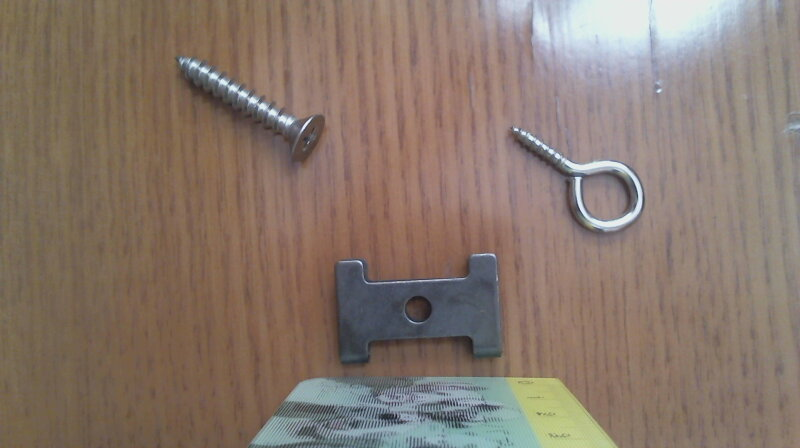O001: (504, 117, 648, 237)
O002: (331, 249, 507, 363)
S001: (167, 50, 332, 166)
